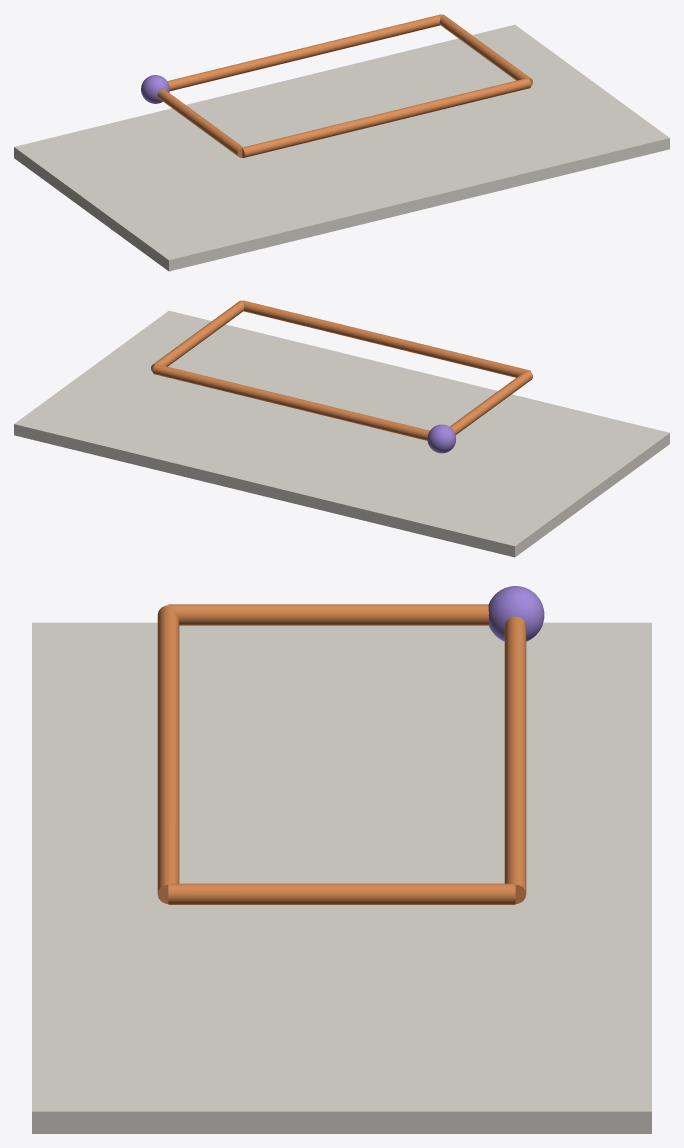
File: math-geometry-perimeter.glb
3 renders of one model, top to bottom at view 1: azimuth 30°, elevation 25°; view 2: azimuth 150°, elevation 25°; view 3: azimuth 270°, elevation 25°, orthographic. The views are drawn at different scales.
Visible parts, largest first — view 1: manipulative-base, edge-3, edge-1, edge-2, edge-4, walker-dot; view 2: manipulative-base, edge-3, edge-1, edge-2, edge-4, walker-dot; view 3: manipulative-base, edge-2, edge-4, edge-3, edge-1, walker-dot.
Boxes of the visible parts, bbox=[...] form: manipulative-base: bbox=[14, 24, 669, 271]; edge-3: bbox=[242, 78, 531, 157]; edge-1: bbox=[167, 14, 441, 91]; edge-2: bbox=[439, 14, 532, 85]; edge-4: bbox=[157, 89, 242, 157]; walker-dot: bbox=[141, 75, 169, 103]; manipulative-base: bbox=[14, 310, 669, 557]; edge-3: bbox=[242, 300, 530, 377]; edge-1: bbox=[152, 364, 429, 440]; edge-2: bbox=[151, 300, 244, 371]; edge-4: bbox=[450, 370, 532, 434]; walker-dot: bbox=[427, 424, 456, 453]; manipulative-base: bbox=[32, 622, 651, 1133]; edge-2: bbox=[168, 883, 515, 904]; edge-4: bbox=[168, 604, 488, 625]; edge-3: bbox=[157, 605, 179, 903]; edge-1: bbox=[504, 616, 526, 903]; walker-dot: bbox=[488, 586, 544, 641].
Size of what is drawn, in the model's own units: 2.8 by 0.43 by 1.5.
